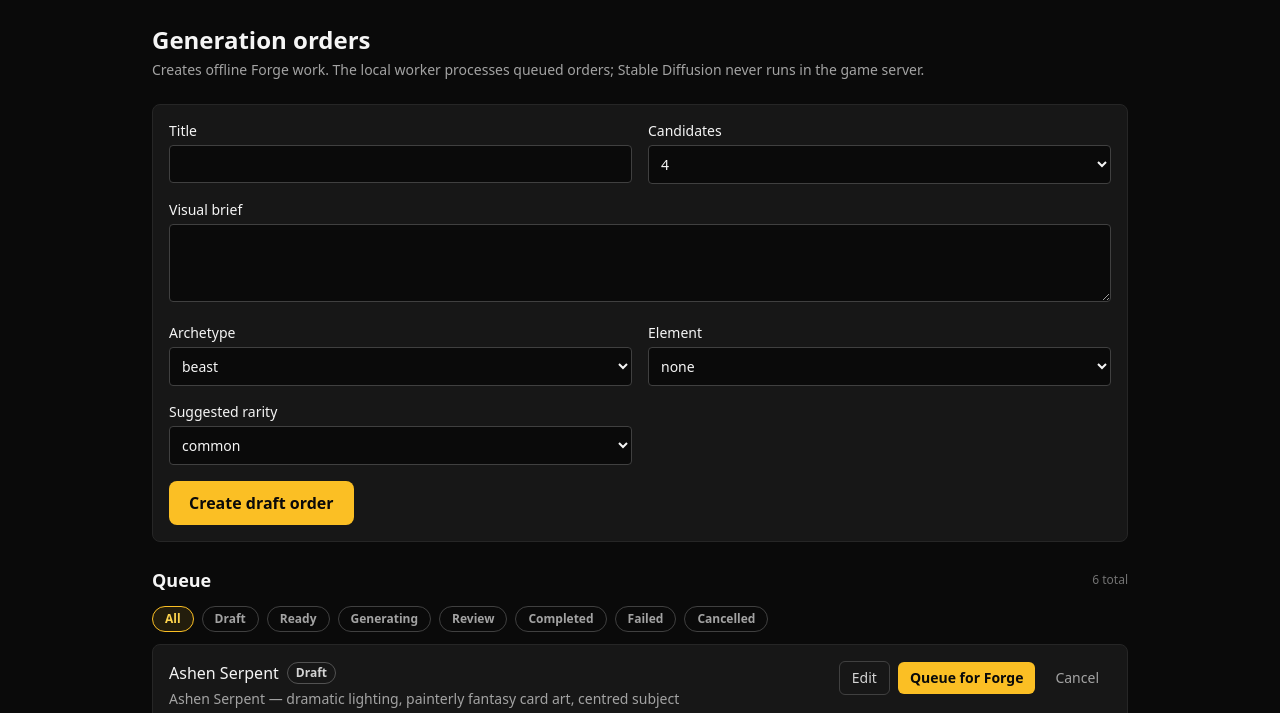
GenerationOrders › opens the edit dialog for a draft order and saves a PATCH
Expected: the text "Ashen Serpent" is shown, [169,661,279,685]
Click the button "Edit".
click(864, 678)  # box [839,661,890,695]
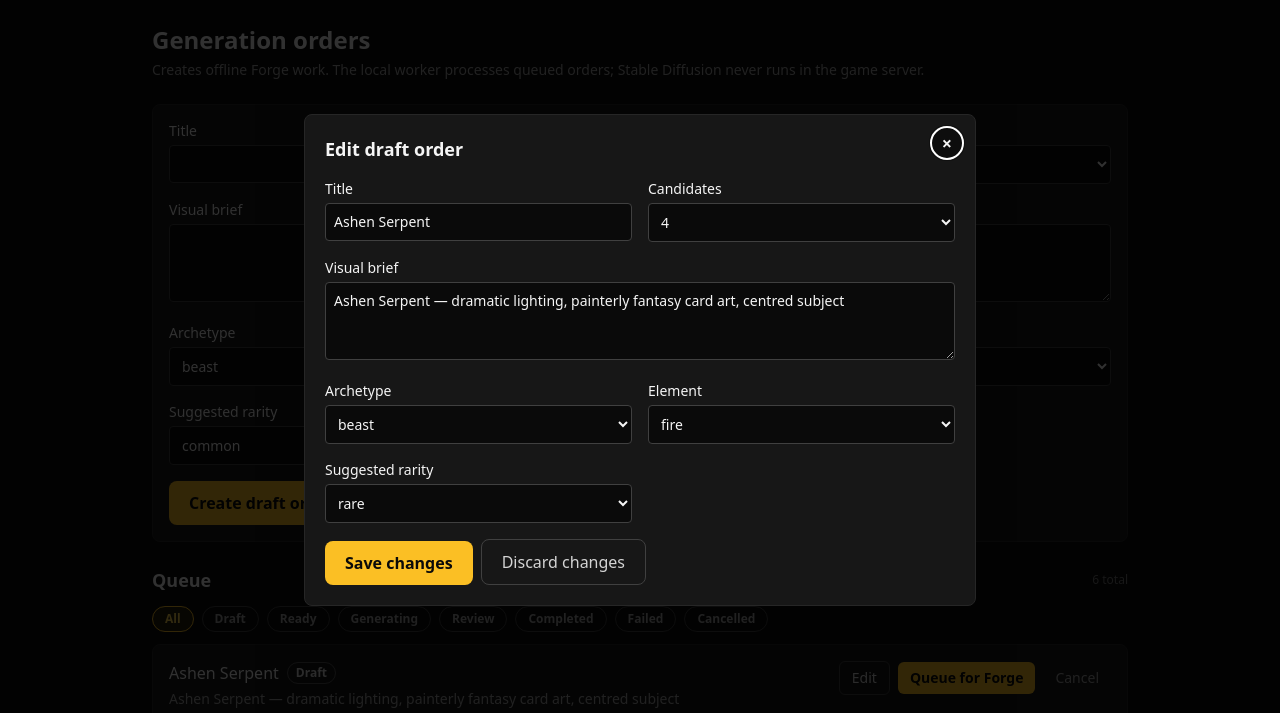
Replace the text in the field labelled "Title" with "Ashen Serpent MK2" at [478, 222], box [325,203,632,241]
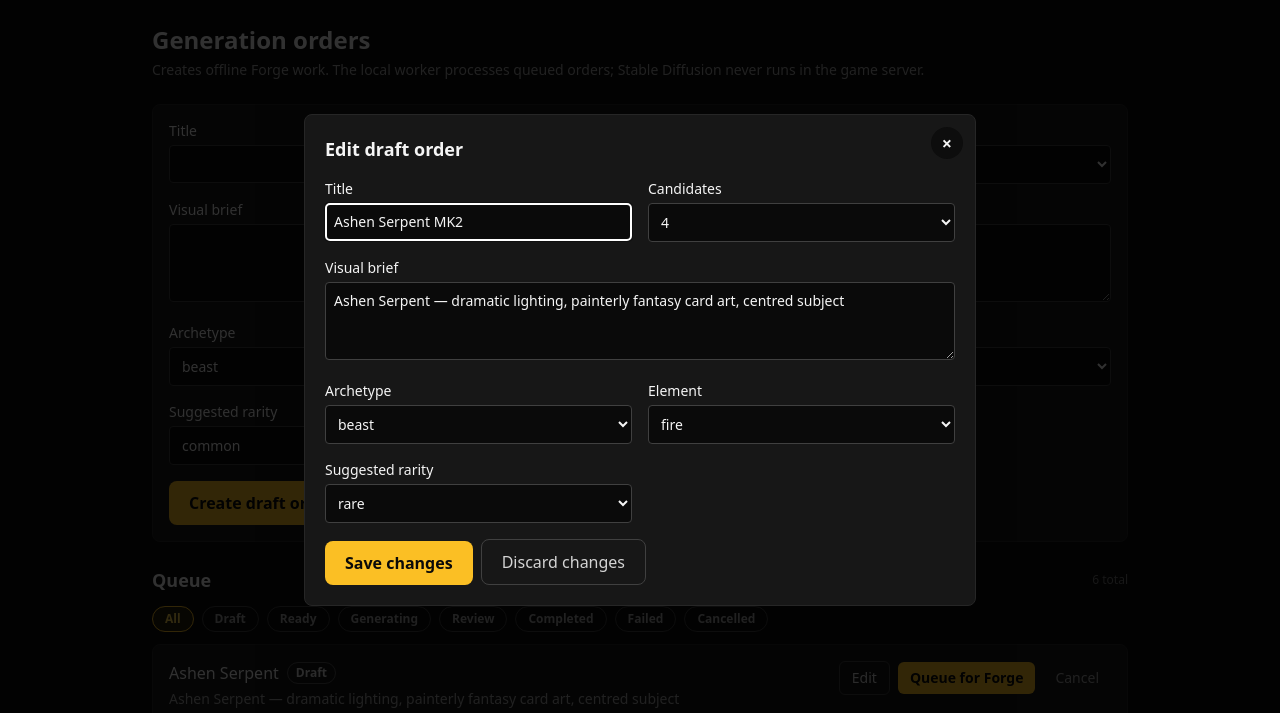
Click the button "Save changes".
click(399, 563)  # box [325,541,473,585]
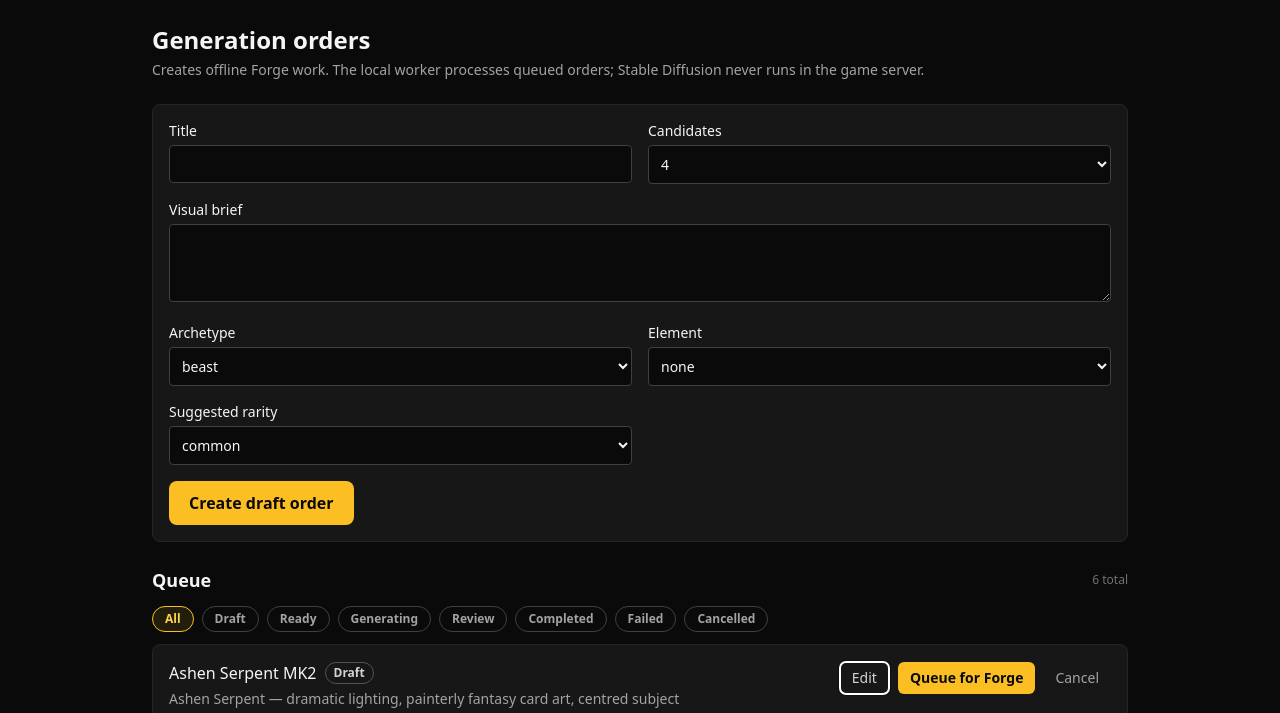
Result: the text "Ashen Serpent" reads "Ashen Serpent MK2" at [169,662,316,684]
